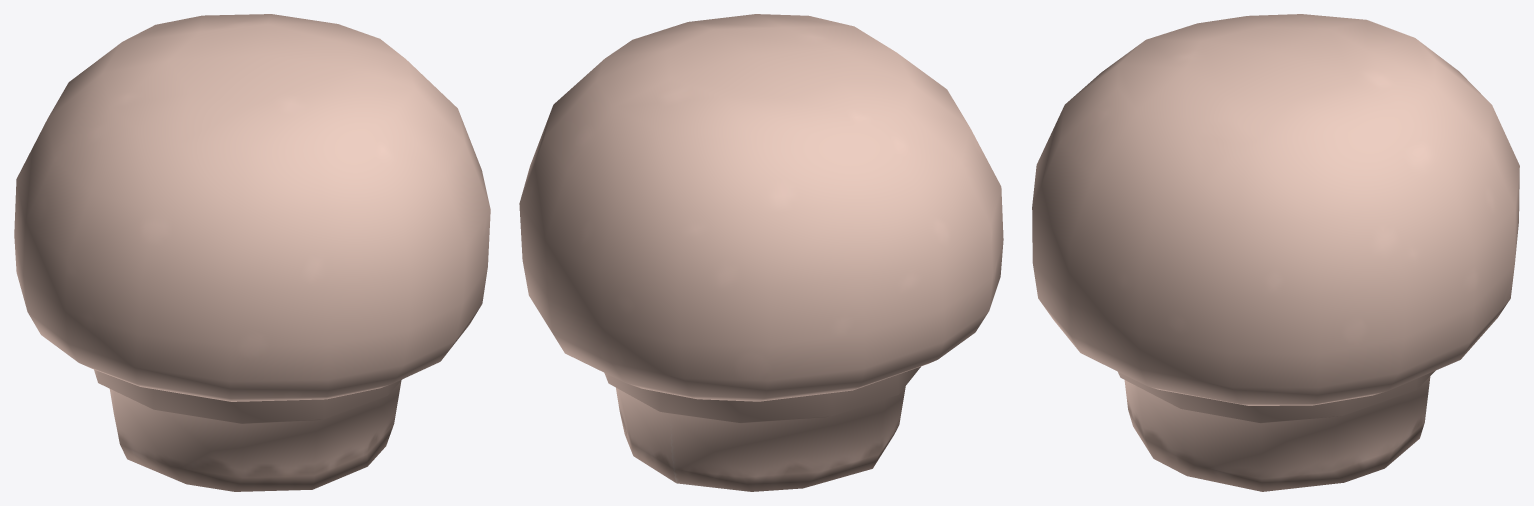
The model's file is Mushroom_13.fbx.
3 renders of one model, left to right at view 1: azimuth 30°, elevation 25°; view 2: azimuth 150°, elevation 25°; view 3: azimuth 270°, elevation 25°, orthographic.
Parts seen in each view (by area): view 1: Mushroom_13; view 2: Mushroom_13; view 3: Mushroom_13.
Boxes of the visible parts, x1,y1,x2,y2 form: Mushroom_13: [14, 14, 490, 491]; Mushroom_13: [519, 14, 1003, 491]; Mushroom_13: [1032, 14, 1519, 491].
Size of the model in its own units: 16.6 by 14.37 by 16.54.
1 material, 1 textured.
